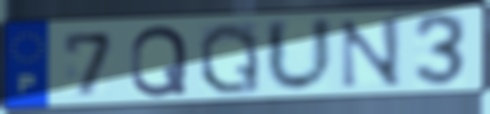3: (412, 11, 469, 90)
7: (61, 29, 116, 98)
N: (337, 15, 404, 91)
Q: (196, 20, 264, 97), (128, 23, 191, 99)
U: (263, 15, 337, 95)
